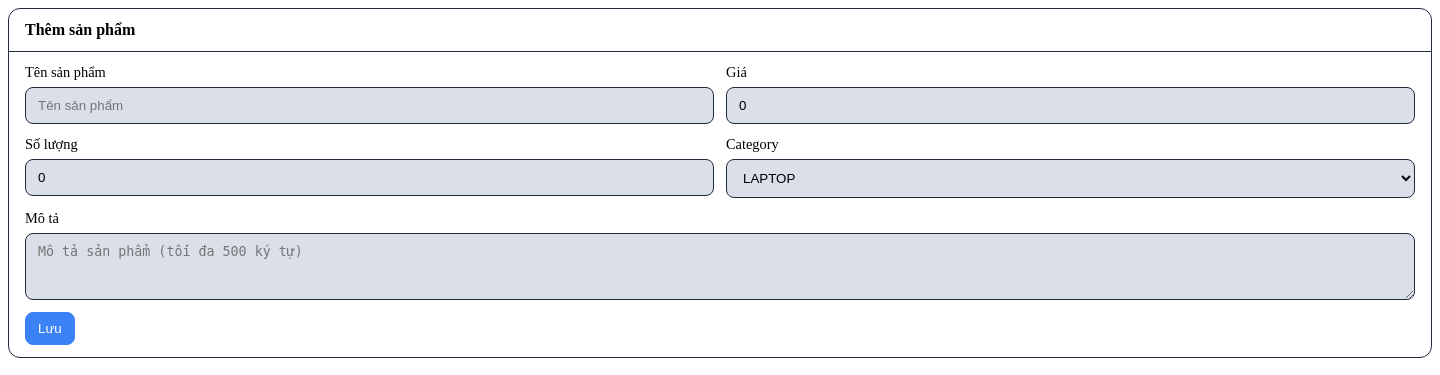
Test: Product Mock Testing (Câu 4.2.1) › TC-MOCK-01: Tao san pham thanh cong (Success Flow)
The width and height of the screenshot is (1440, 375).
Note: Tương tác (Giả định form có input và nút submit)
Type "Laptop ABC" into the field with test id "name-input" at (370, 106), box [25,87,714,124]
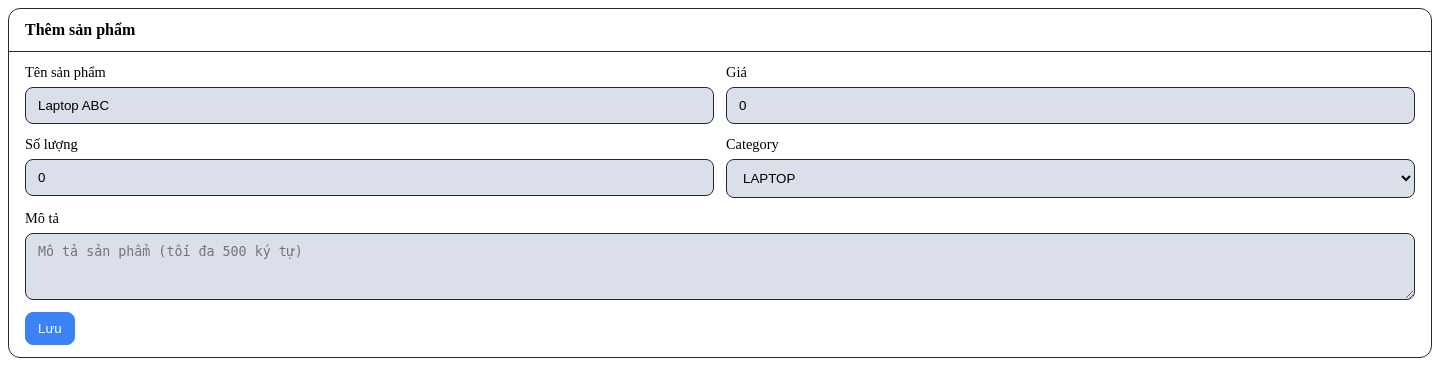
Click the button with test id "submit-product-btn" at (50, 328), box [25,312,75,345]
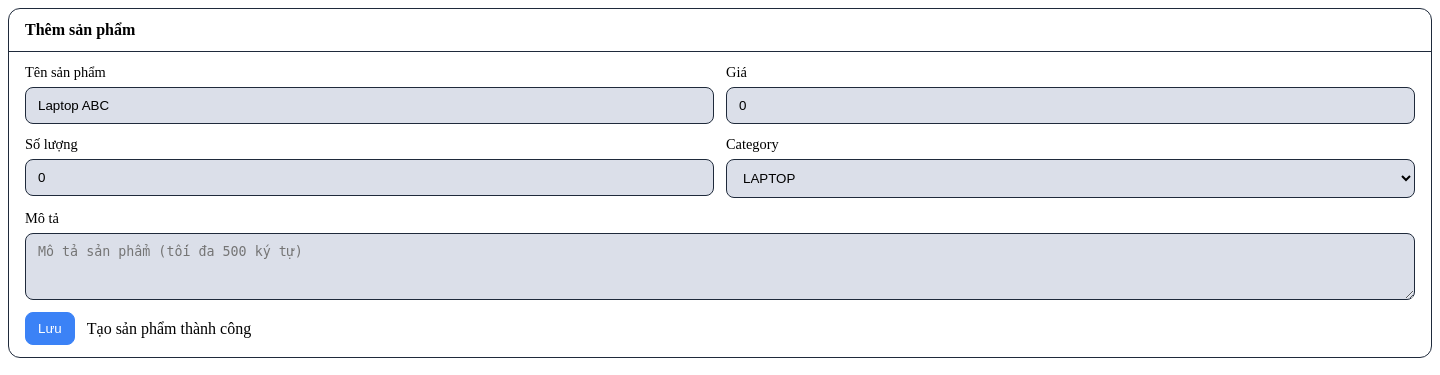
Check: the text "Tạo sản phẩm thành công" is shown, box [87,320,251,338]
